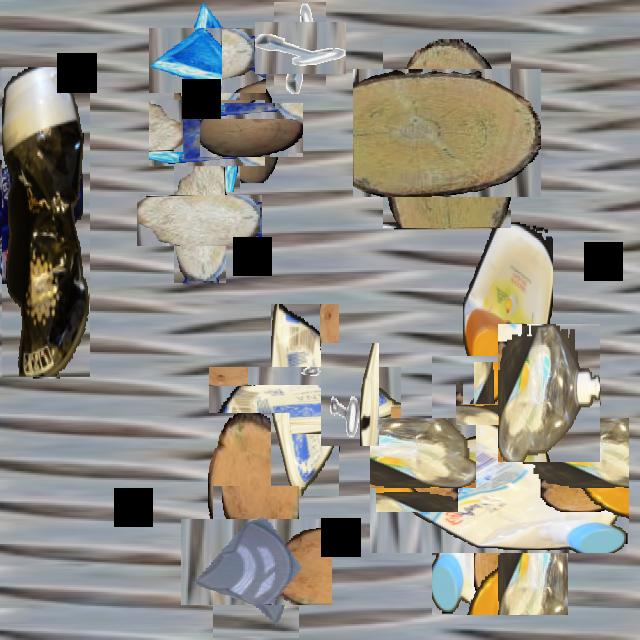glass: (197, 502, 316, 622), (161, 88, 253, 179), (162, 15, 254, 106)
metal: (321, 343, 379, 446), (264, 12, 336, 84)
plastic: (401, 387, 599, 584), (2, 67, 90, 377), (240, 335, 370, 465), (463, 222, 553, 404), (498, 324, 600, 462), (0, 160, 83, 306)
wood: (368, 54, 526, 213), (208, 413, 290, 551), (156, 176, 244, 265), (212, 91, 290, 169), (464, 372, 528, 435)
